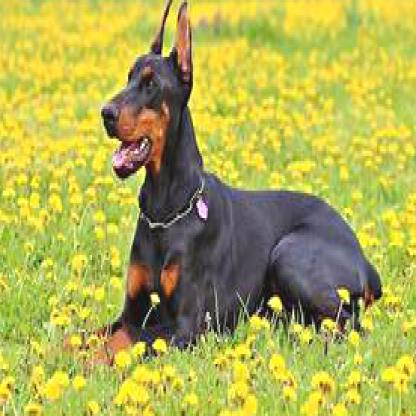dog: (92, 0, 384, 364)
